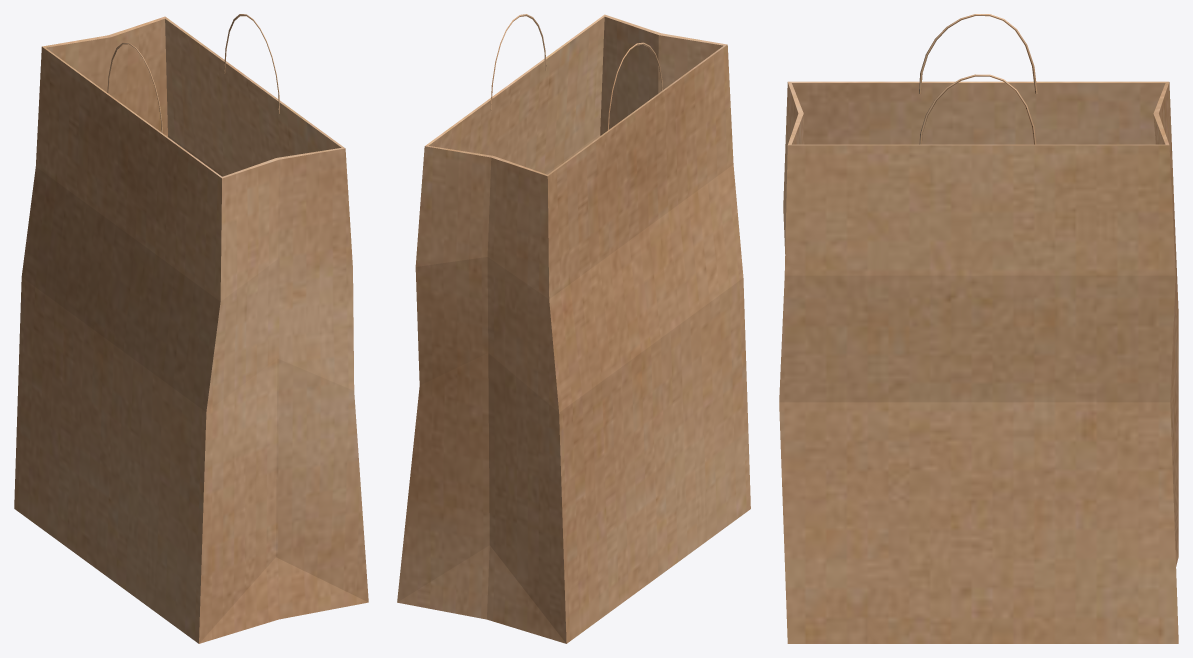
File: PaperBag.fbx
The picture shows the model from 3 angles, left to right: view 1: azimuth 30°, elevation 25°; view 2: azimuth 150°, elevation 25°; view 3: azimuth 270°, elevation 25°; orthographic projection. The views are drawn at different scales.
Parts seen in each view (by area): view 1: Cube; view 2: Cube; view 3: Cube.
Part boxes in pixels (x1,y1,x2,y2): Cube: (14, 14, 368, 643); Cube: (397, 14, 750, 643); Cube: (779, 14, 1178, 643).
Bounding box in the file's own units: 75.69 × 39.31 × 116.
